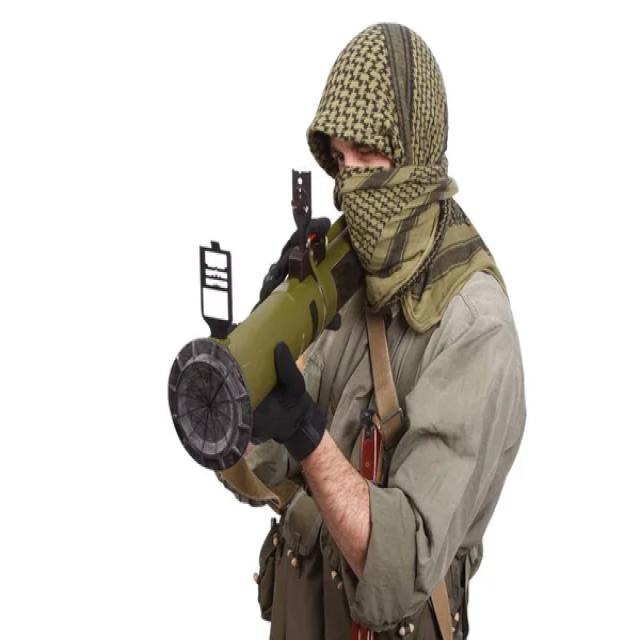bazooka: (170, 156, 365, 481)
